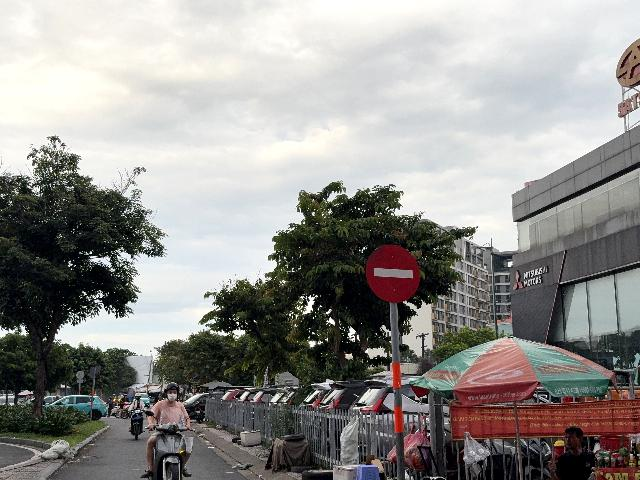cam-di-nguoc-chieu: (366, 244, 420, 303)
